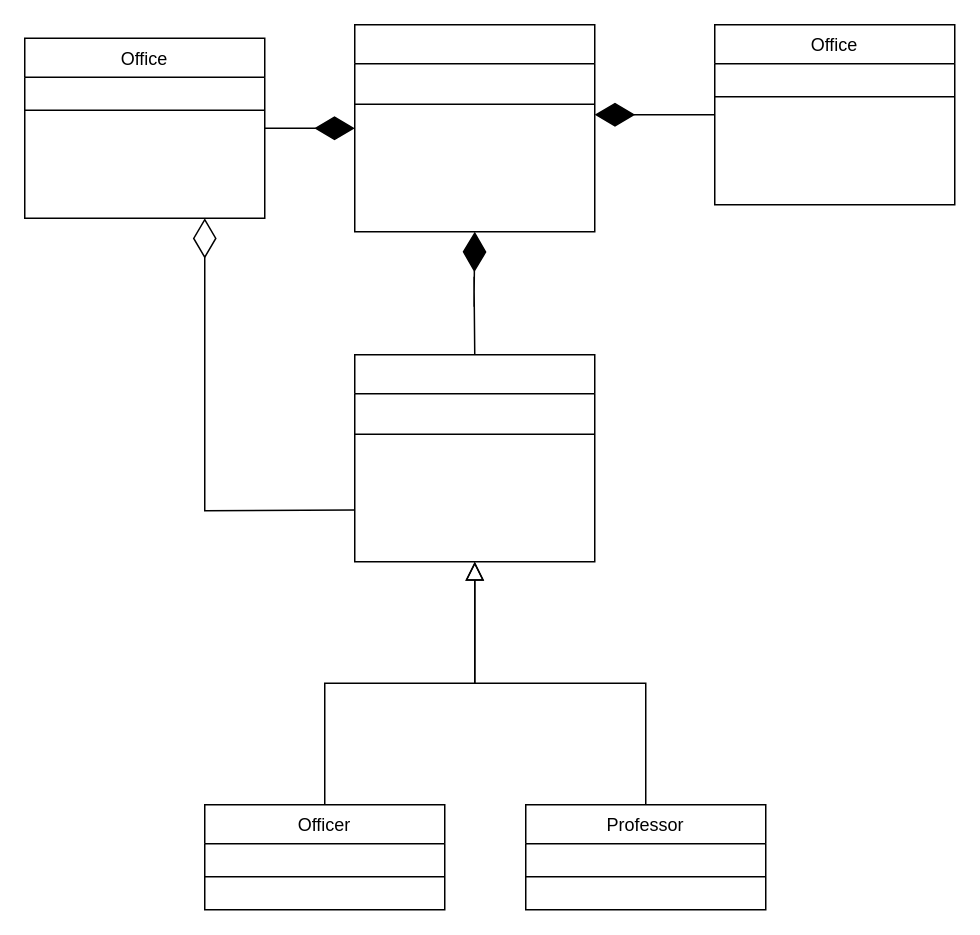
Image size: 980x935. Some labels were removed from this diagram. Here are the shapes that lost their labels. From the top down, the box of each, then its label:
(353, 23, 595, 232): University
(353, 353, 595, 562): Employees
